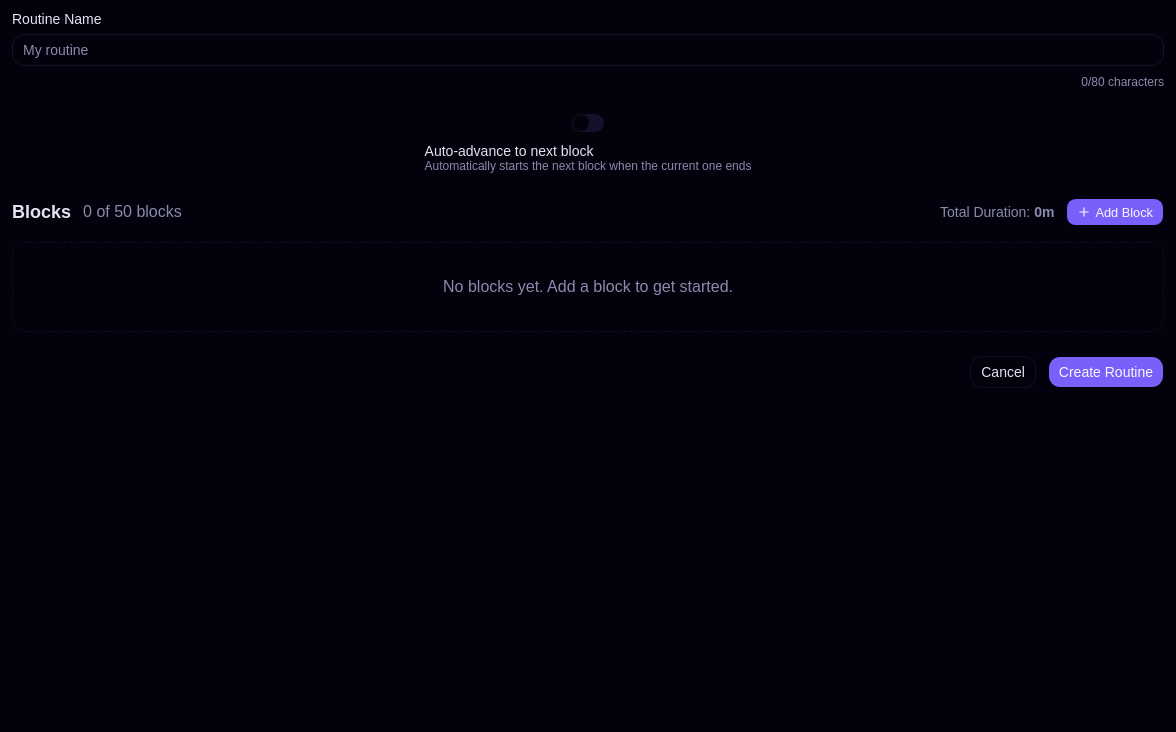
Test: RoutineEditor › shows generic error when fetch throws a network error
Step 1. Type "My New Routine" into the field with placeholder "My routine" → x=588, y=50, box [12, 34, 1164, 66]
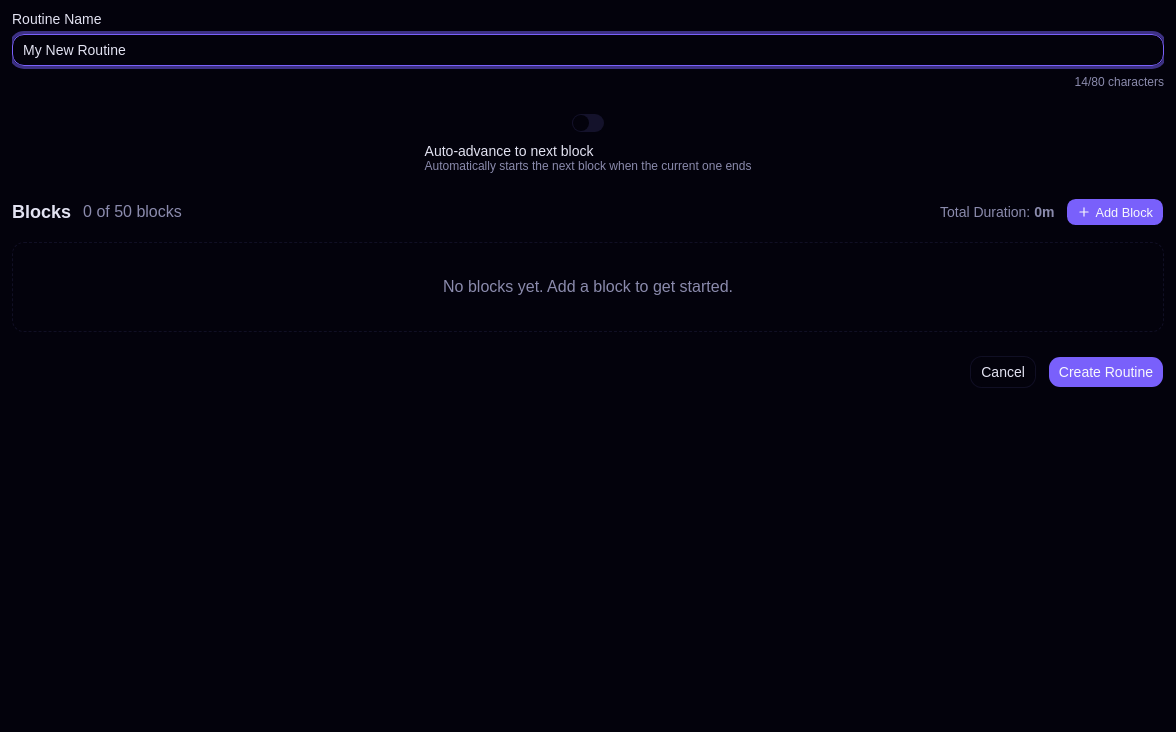
Step 2. Click the button "Add Block" → x=1115, y=212, box [1066, 198, 1164, 226]
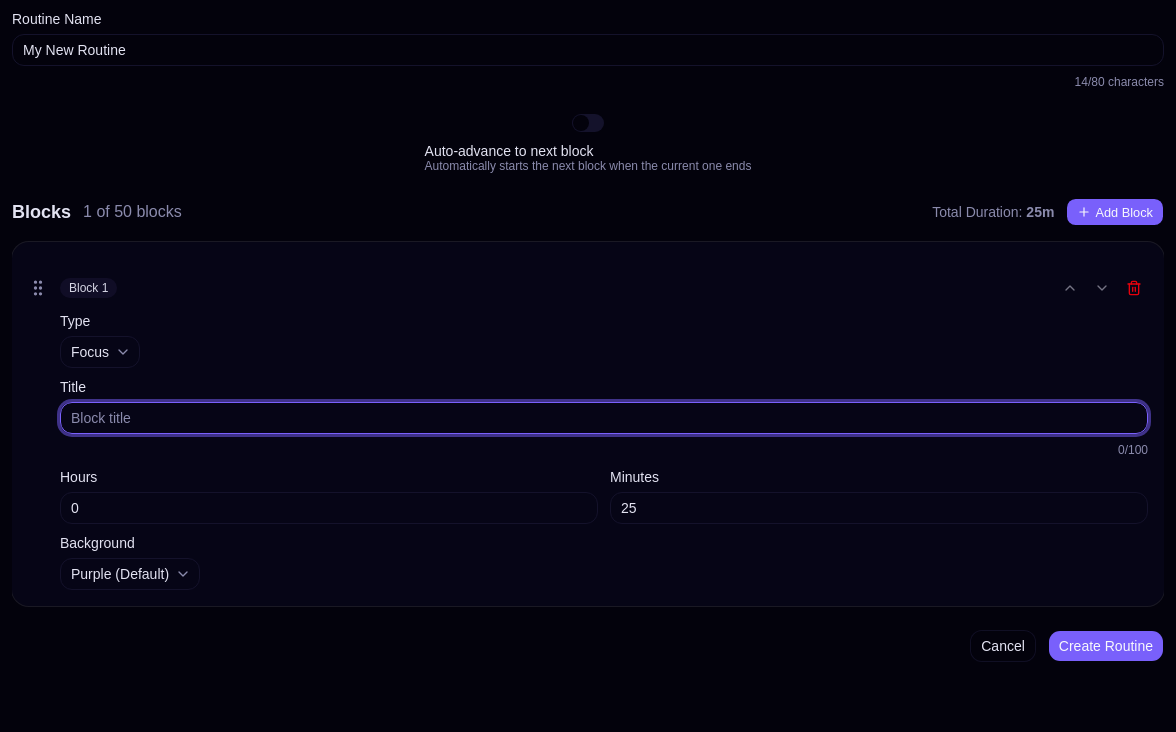
Step 3. Type "Focus Session" into the field with placeholder "Block title" → x=604, y=418, box [60, 402, 1148, 434]
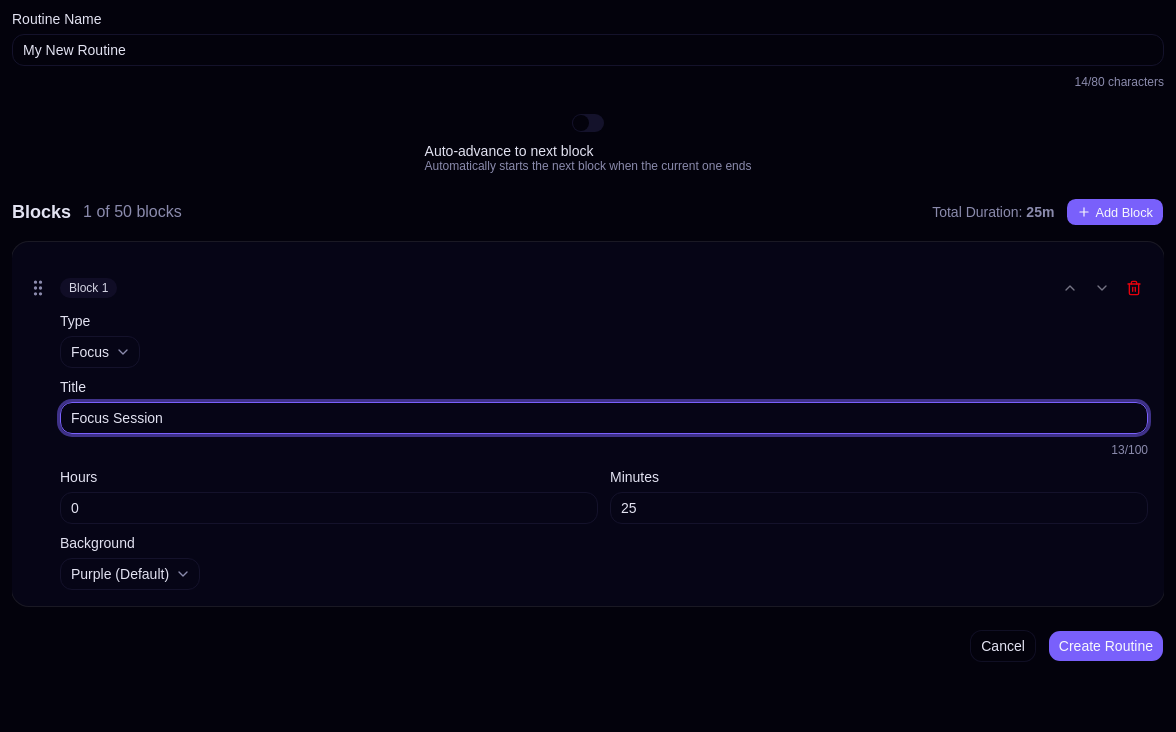
Step 4. Click the button "Create Routine" → x=1106, y=646, box [1048, 630, 1164, 662]
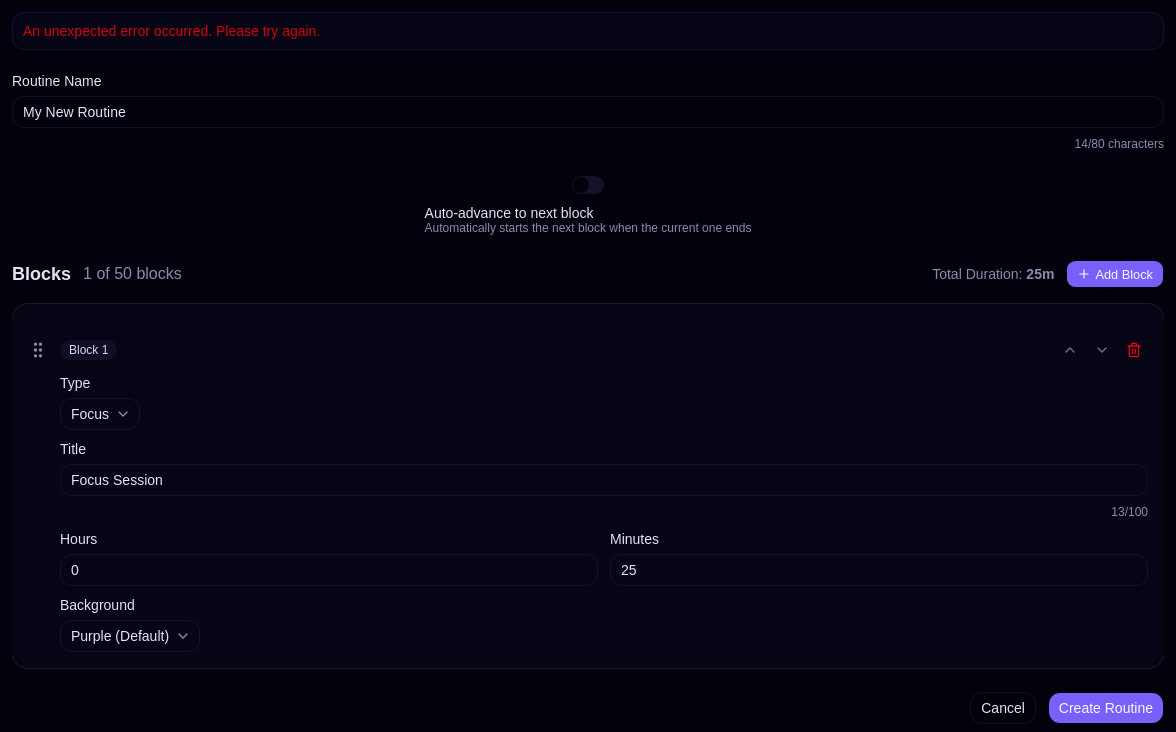
Now the text "An unexpected error occurred. Please try again." is shown, box [23, 23, 320, 39]
